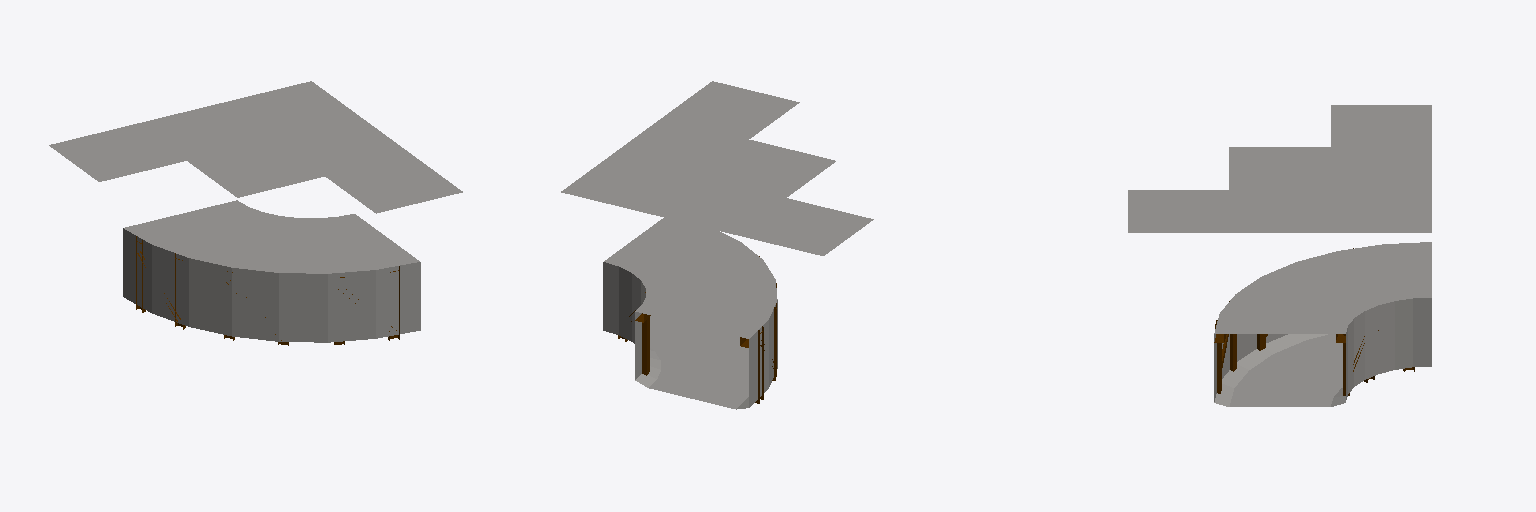
The model's file is Track_Mine_Curve_3x3.obj.
3 renders of one model, left to right at view 1: azimuth 30°, elevation 25°; view 2: azimuth 150°, elevation 25°; view 3: azimuth 270°, elevation 25°, orthographic.
Visible parts, largest first — view 1: object24, object1; view 2: object1, object24; view 3: object24, object1.
Boxes of the visible parts, box(x1,y1,x2,y2) form: object24: box(123, 200, 420, 342); object1: box(49, 81, 462, 213); object1: box(561, 81, 873, 255); object24: box(603, 218, 777, 409); object24: box(1214, 242, 1431, 406); object1: box(1128, 105, 1431, 232).
Bounding box in the file's own units: 3 × 1.9 × 3.